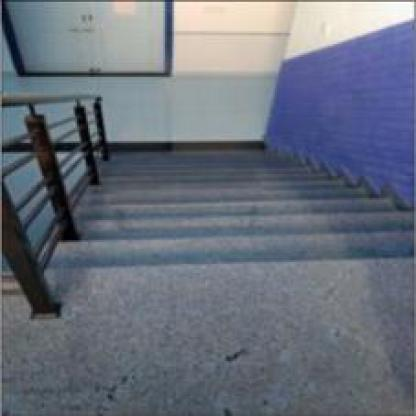stair_down: (79, 187, 372, 317)
